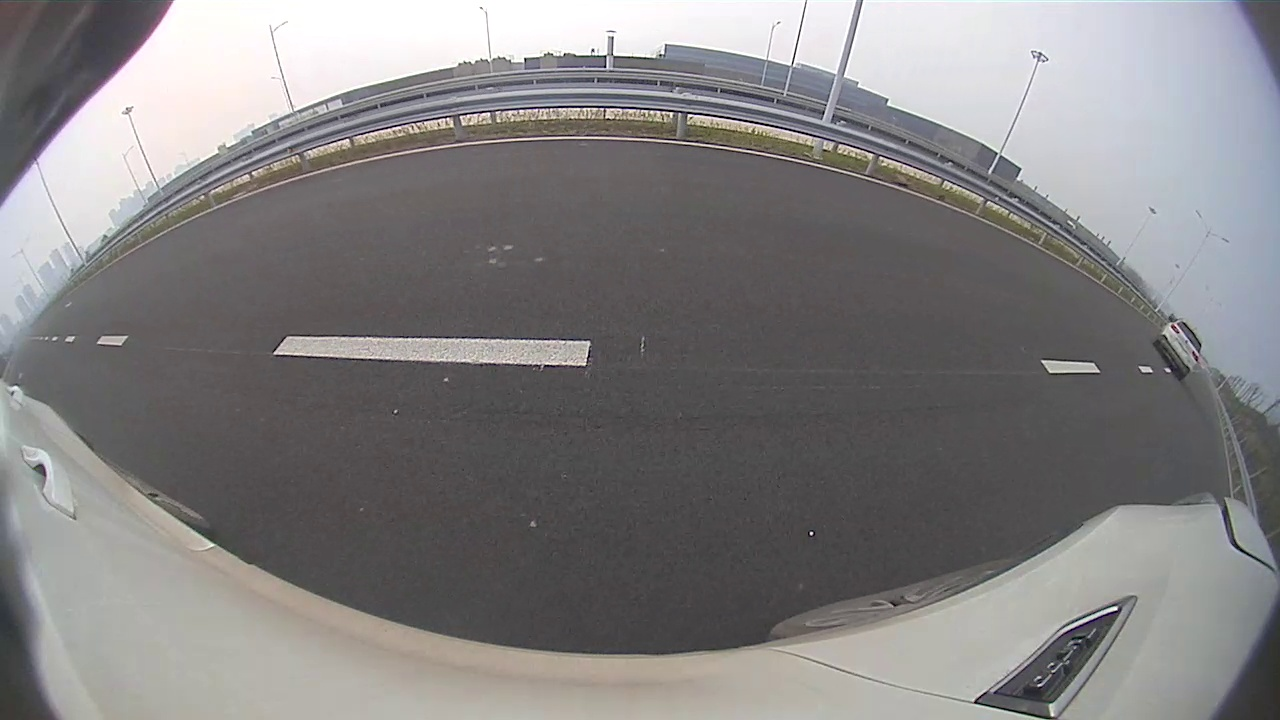car: (1154, 320, 1201, 381)
